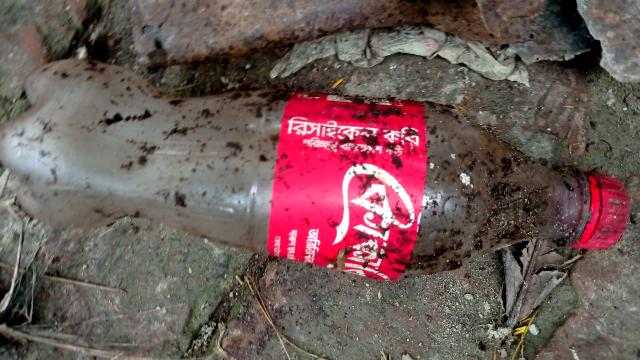bottle: (13, 63, 620, 289)
